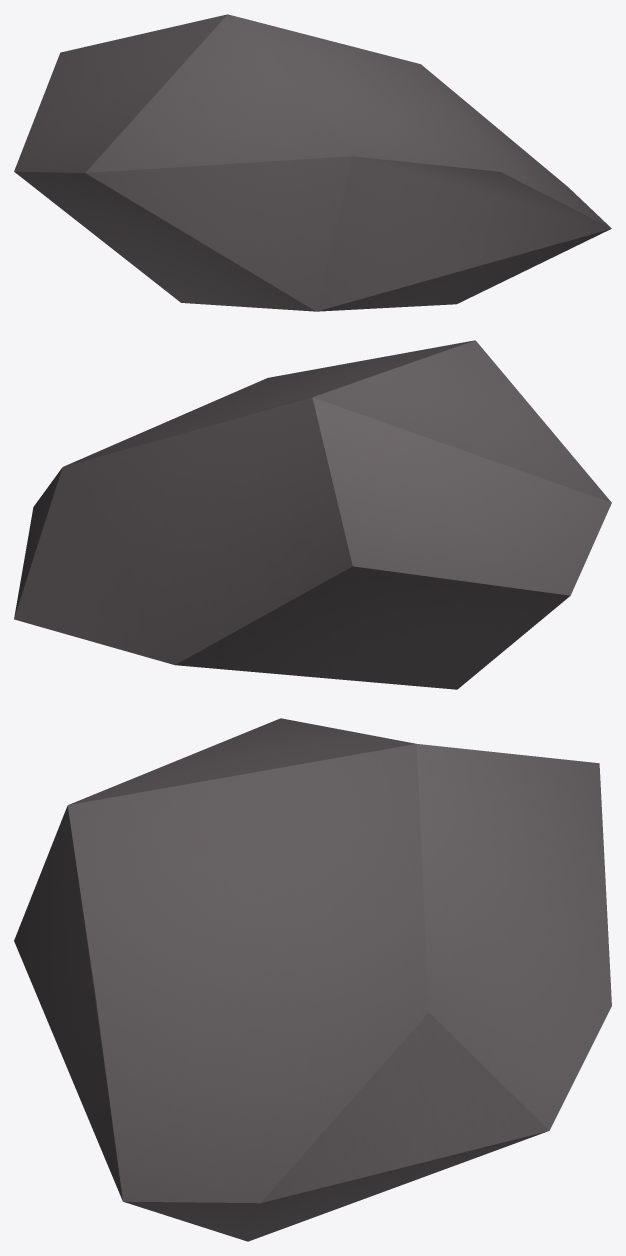
Rendered from Rocks07.fbx.
The picture shows the model from 3 angles, top to bottom: view 1: azimuth 30°, elevation 25°; view 2: azimuth 150°, elevation 25°; view 3: azimuth 270°, elevation 25°; orthographic projection. The views are drawn at different scales.
Visible parts, largest first — view 1: Rock.007; view 2: Rock.007; view 3: Rock.007.
Part boxes in pixels (x1,y1,x2,y2): Rock.007: (14,14,611,311); Rock.007: (14,340,611,689); Rock.007: (14,718,611,1241).
Bounding box in the file's own units: 0.2142 × 0.118 × 0.1652.
